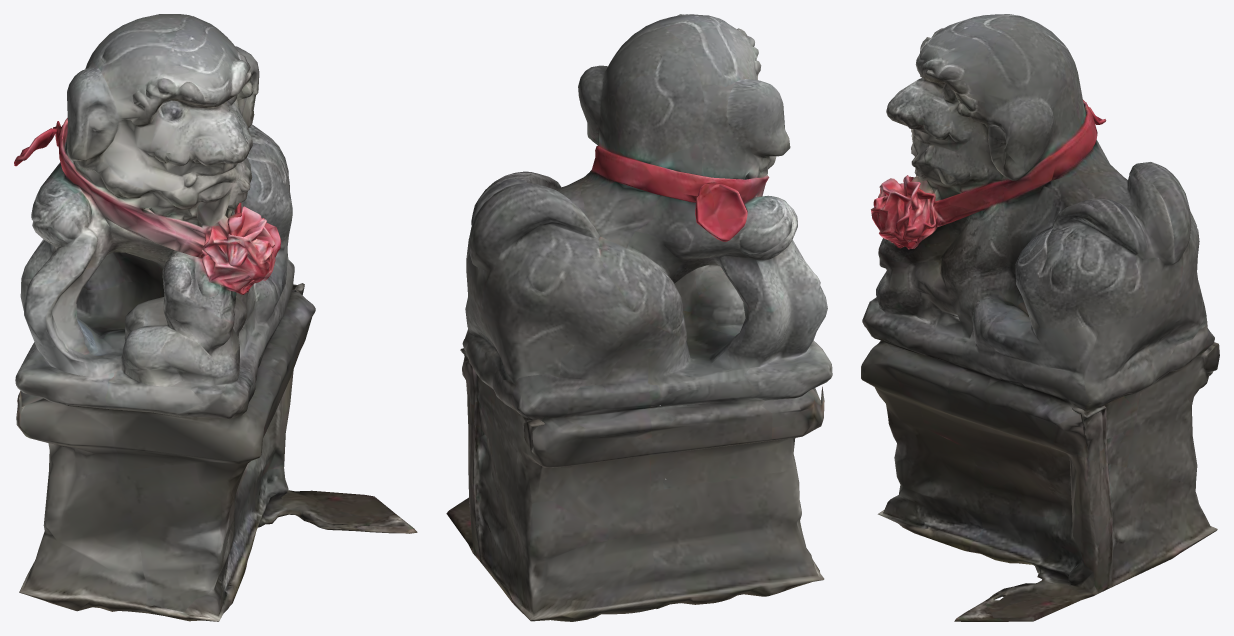
Rendered from stone-lion.glb.
3 views of the same model, side by side, from view 1: azimuth 30°, elevation 25°; view 2: azimuth 150°, elevation 25°; view 3: azimuth 270°, elevation 25° (orthographic). The views are drawn at different scales.
Visible parts, largest first — view 1: tripo_node_d3a98527-80e8-4681-8827-334841b1c64b; view 2: tripo_node_d3a98527-80e8-4681-8827-334841b1c64b; view 3: tripo_node_d3a98527-80e8-4681-8827-334841b1c64b.
Boxes of the visible parts, x1=… form: tripo_node_d3a98527-80e8-4681-8827-334841b1c64b: x1=14, y1=14, x2=417, y2=621; tripo_node_d3a98527-80e8-4681-8827-334841b1c64b: x1=446, y1=14, x2=832, y2=621; tripo_node_d3a98527-80e8-4681-8827-334841b1c64b: x1=861, y1=14, x2=1219, y2=621.
Bounding box in the file's own units: 0.7058 × 0.9797 × 0.6325.
Materials: 1 (1 with a texture image).
